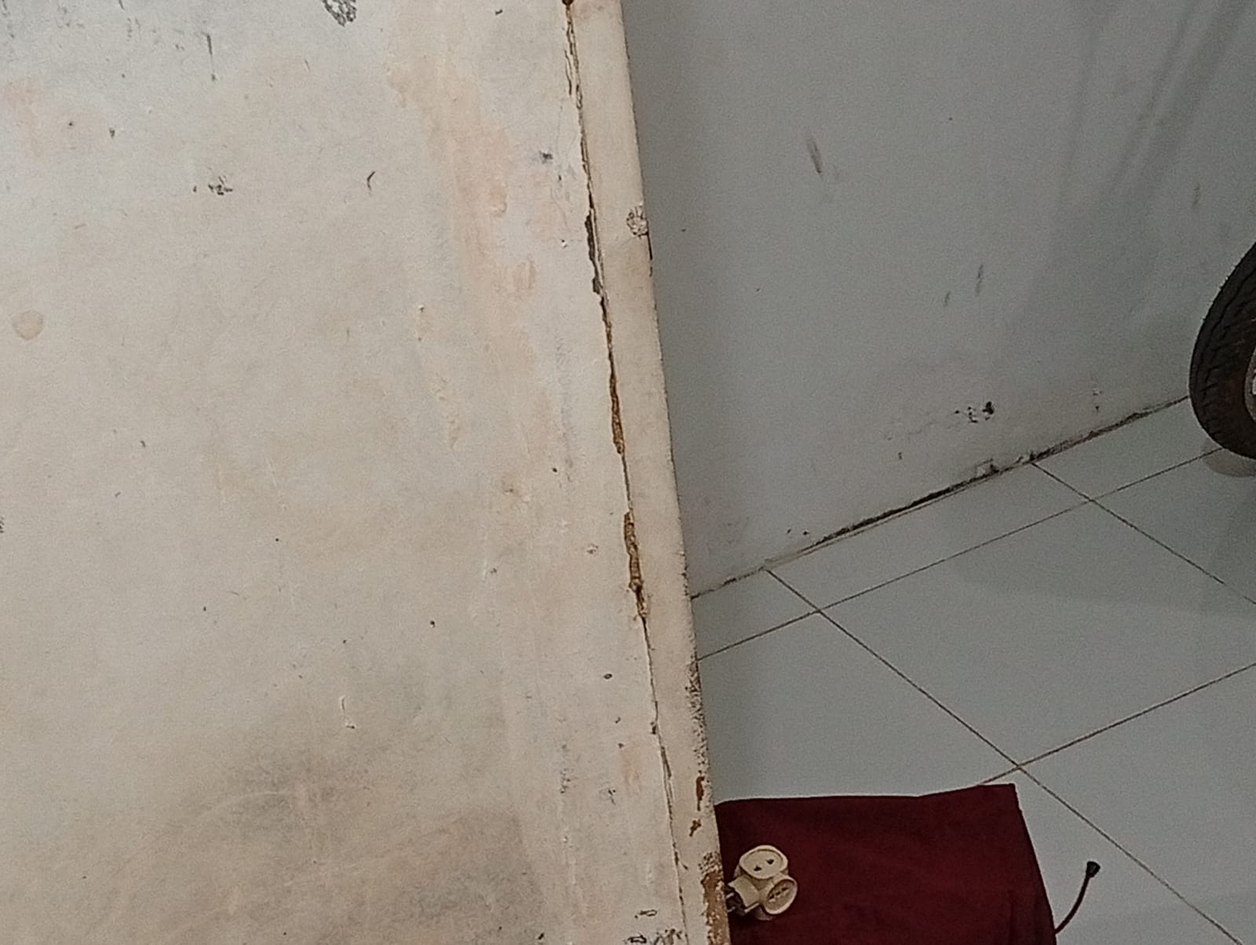Colokan: (715, 817, 822, 932)
